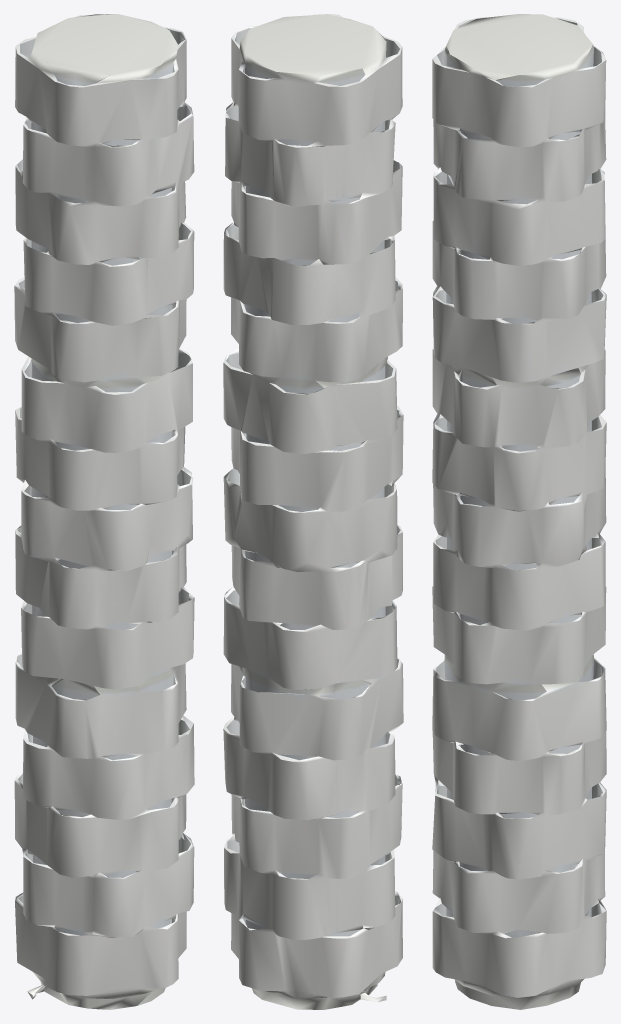
File: LÅGTRYCK floor lamp.glb
3 views of the same model, side by side, from view 1: azimuth 30°, elevation 25°; view 2: azimuth 150°, elevation 25°; view 3: azimuth 270°, elevation 25° (orthographic).
Visible parts, largest first — view 1: 30501265-LÃƒâ€¦GTRYCK001; view 2: 30501265-LÃƒâ€¦GTRYCK001; view 3: 30501265-LÃƒâ€¦GTRYCK001.
Part boxes in pixels (x1,y1,x2,y2): 30501265-LÃƒâ€¦GTRYCK001: [14, 14, 194, 1009]; 30501265-LÃƒâ€¦GTRYCK001: [223, 14, 403, 1009]; 30501265-LÃƒâ€¦GTRYCK001: [432, 14, 606, 1009].
Bounding box in the file's own units: 0.2438 × 1.38 × 0.2317.
2 materials, 2 textured.
